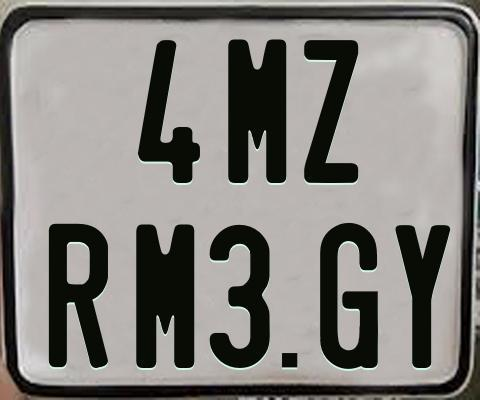3: (208, 224, 274, 373)
4: (136, 39, 203, 188)
G: (320, 223, 383, 369)
M: (136, 223, 194, 372), (226, 36, 284, 182)
R: (47, 223, 109, 372)
Y: (394, 225, 449, 369)
Z: (302, 40, 356, 184)
